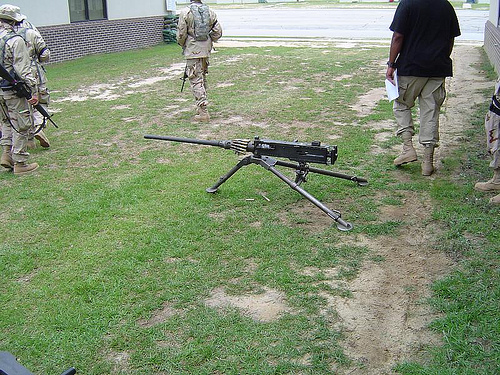rifle: (142, 130, 378, 226)
